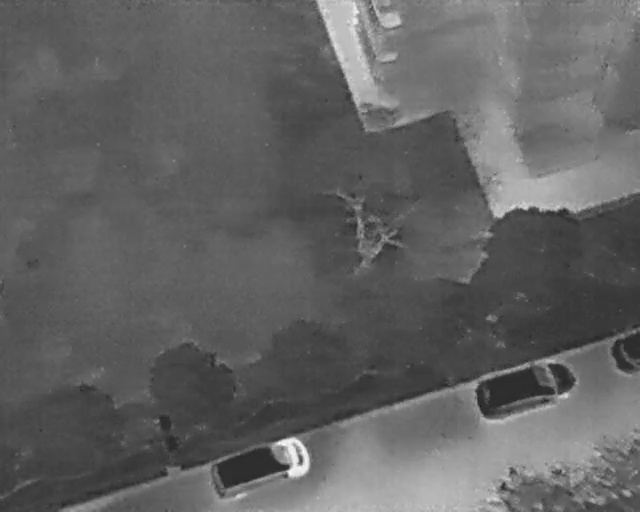Car: (205, 428, 317, 506), (467, 353, 582, 427), (610, 329, 639, 378)
